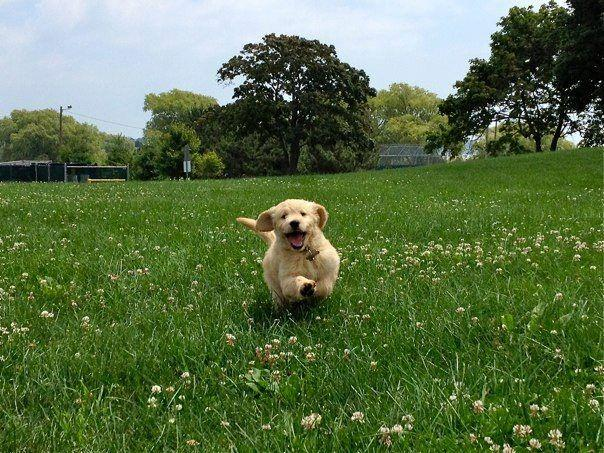puppy-dog: (237, 198, 340, 319)
